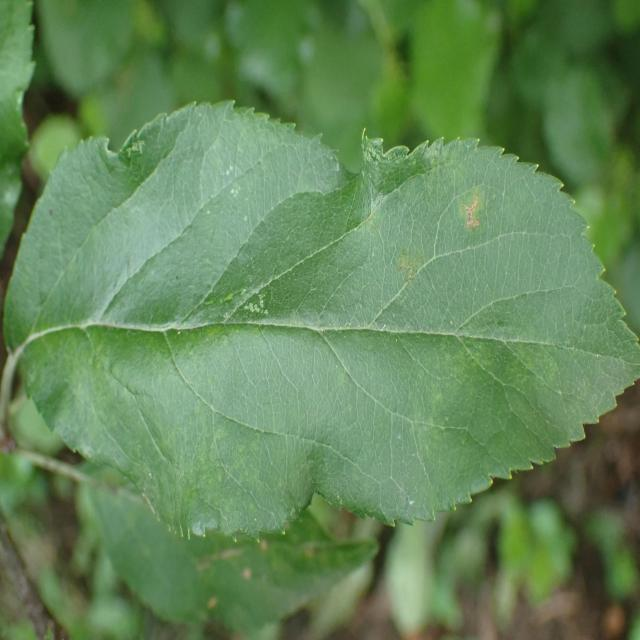scab: (137, 155, 568, 533)
